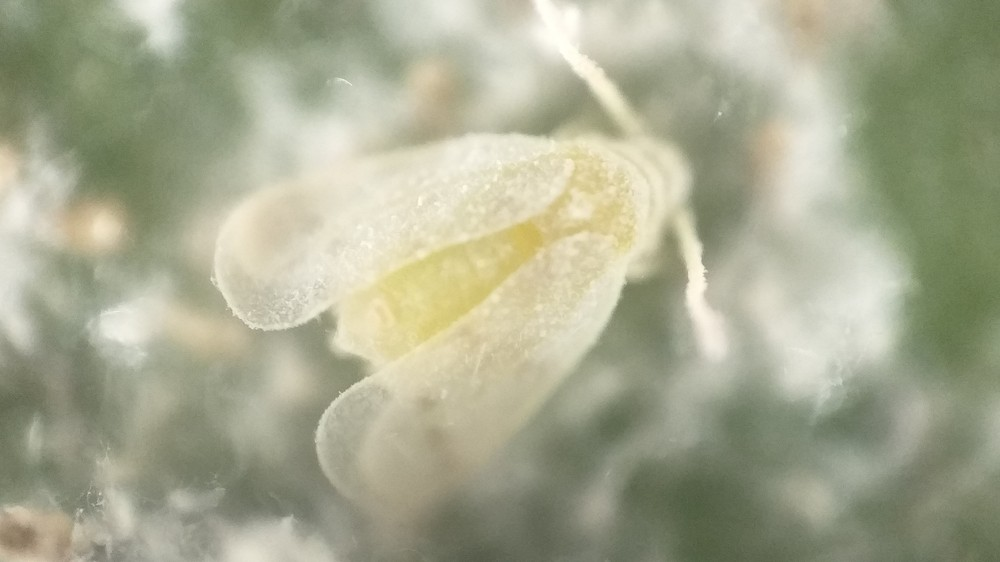Mosca Blanca: (217, 5, 747, 533)
